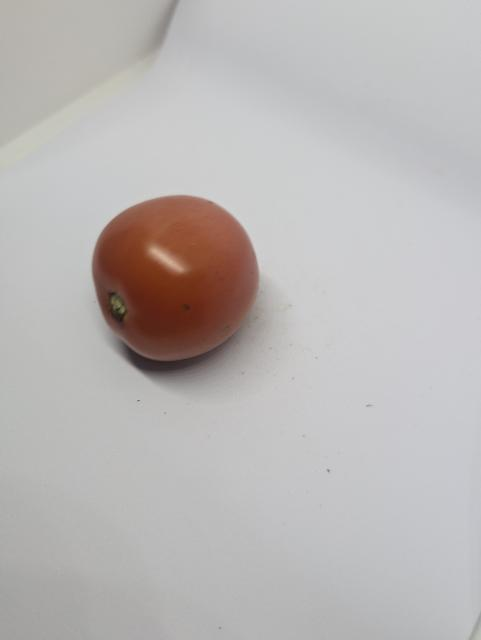red: (88, 190, 264, 383)
